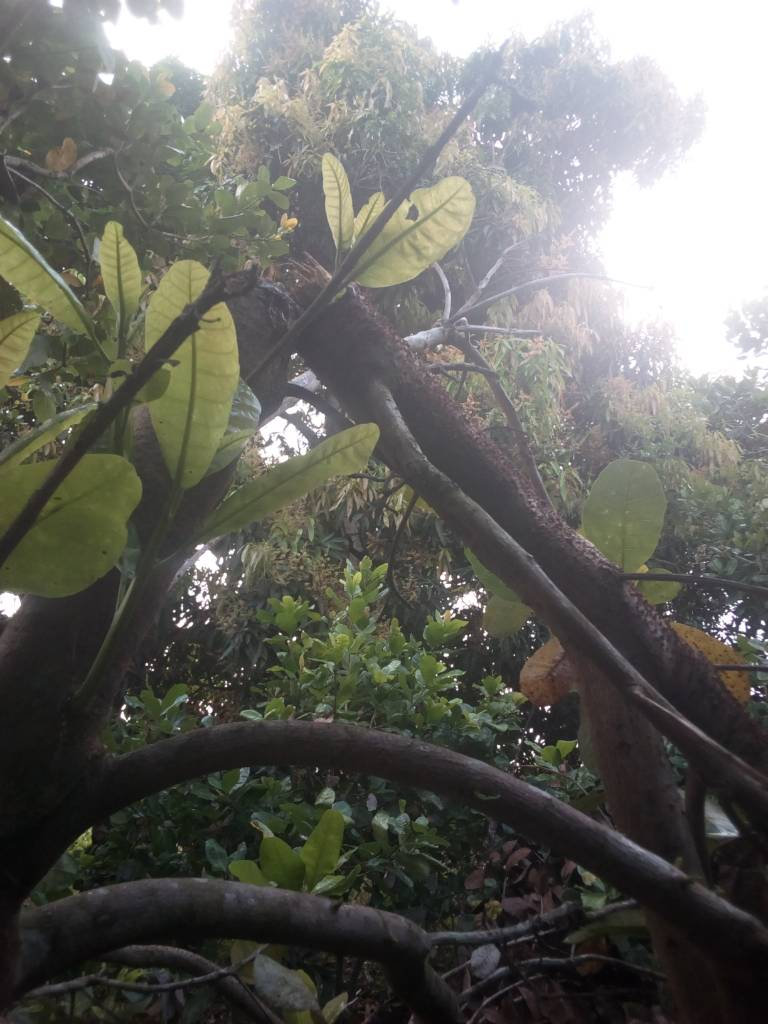Analepse trifasciata: (221, 255, 375, 371)
